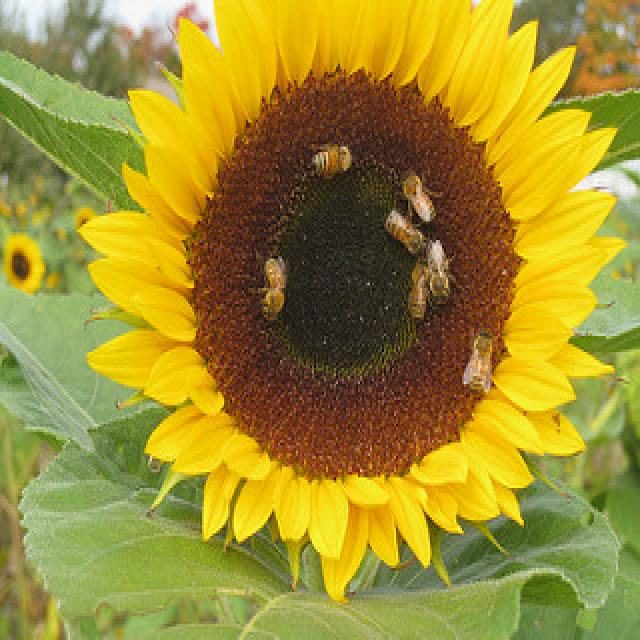sunflower: (78, 0, 630, 606), (5, 230, 45, 294)
